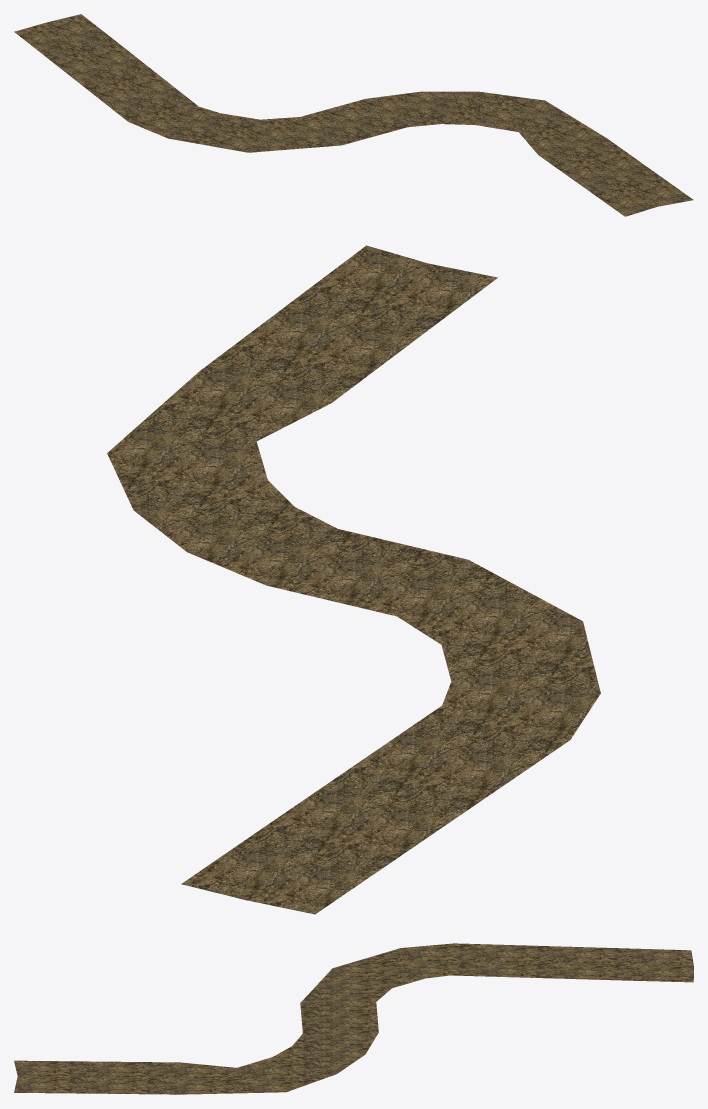
The model's file is CH09_SMAUG_PLAYSURFACE_LAIR106.fbx.
The picture shows the model from 3 angles, top to bottom: view 1: azimuth 30°, elevation 25°; view 2: azimuth 150°, elevation 25°; view 3: azimuth 270°, elevation 25°; orthographic projection. The views are drawn at different scales.
Visible parts, largest first — view 1: CH09_SMAUG_PLAYSURFACE_LAIR106; view 2: CH09_SMAUG_PLAYSURFACE_LAIR106; view 3: CH09_SMAUG_PLAYSURFACE_LAIR106.
Part boxes in pixels (bbox=[...]): CH09_SMAUG_PLAYSURFACE_LAIR106: bbox=[14, 14, 693, 216]; CH09_SMAUG_PLAYSURFACE_LAIR106: bbox=[107, 245, 600, 914]; CH09_SMAUG_PLAYSURFACE_LAIR106: bbox=[14, 943, 693, 1094].
Size of the model in its own units: 192638 by 6039 by 352316.
Materials: 1 (1 with a texture image).
